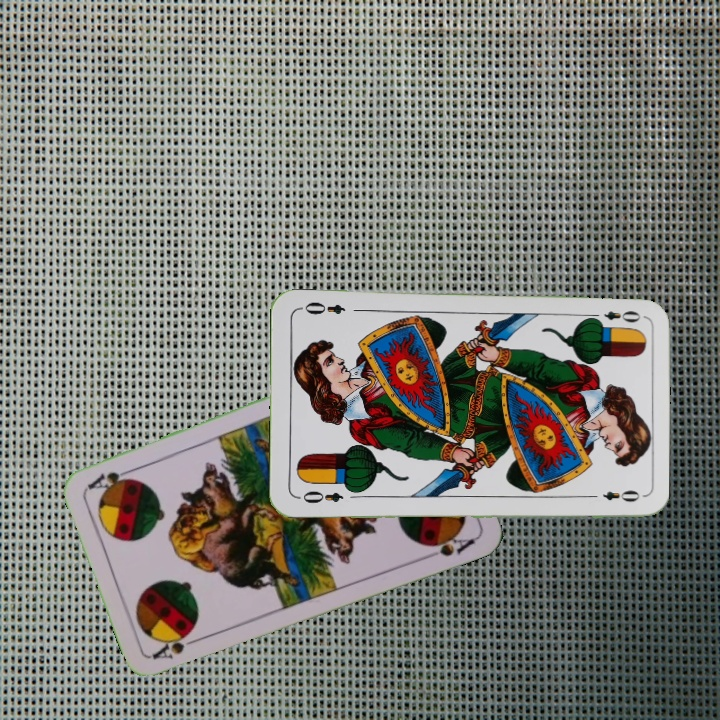EO: (585, 307, 643, 326), (294, 486, 346, 506)
SA: (148, 629, 206, 663)
